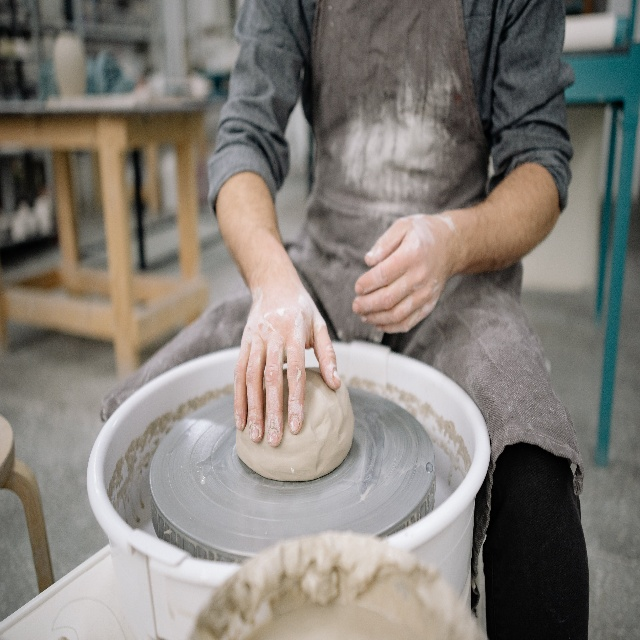Sin_guantes: (234, 272, 341, 449), (353, 213, 446, 334)
